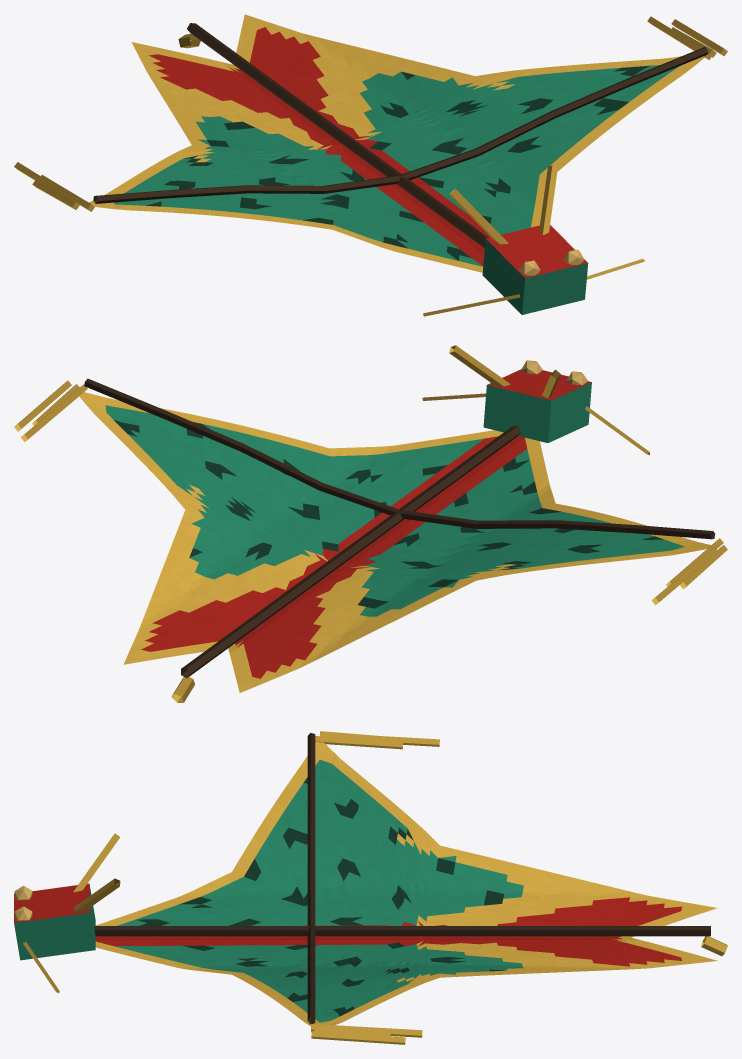
File: kite_dragon.glb
The picture shows the model from 3 angles, top to bottom: view 1: azimuth 30°, elevation 25°; view 2: azimuth 150°, elevation 25°; view 3: azimuth 270°, elevation 25°; orthographic projection. The views are drawn at different scales.
Visible parts, largest first — view 1: kite_dragon; view 2: kite_dragon; view 3: kite_dragon.
Boxes of the visible parts, <box> form: kite_dragon: <box>14,14,727,316</box>; kite_dragon: <box>14,345,727,702</box>; kite_dragon: <box>14,731,727,1044</box>.
Bounding box in the file's own units: 2.07 × 0.3174 × 2.06.
